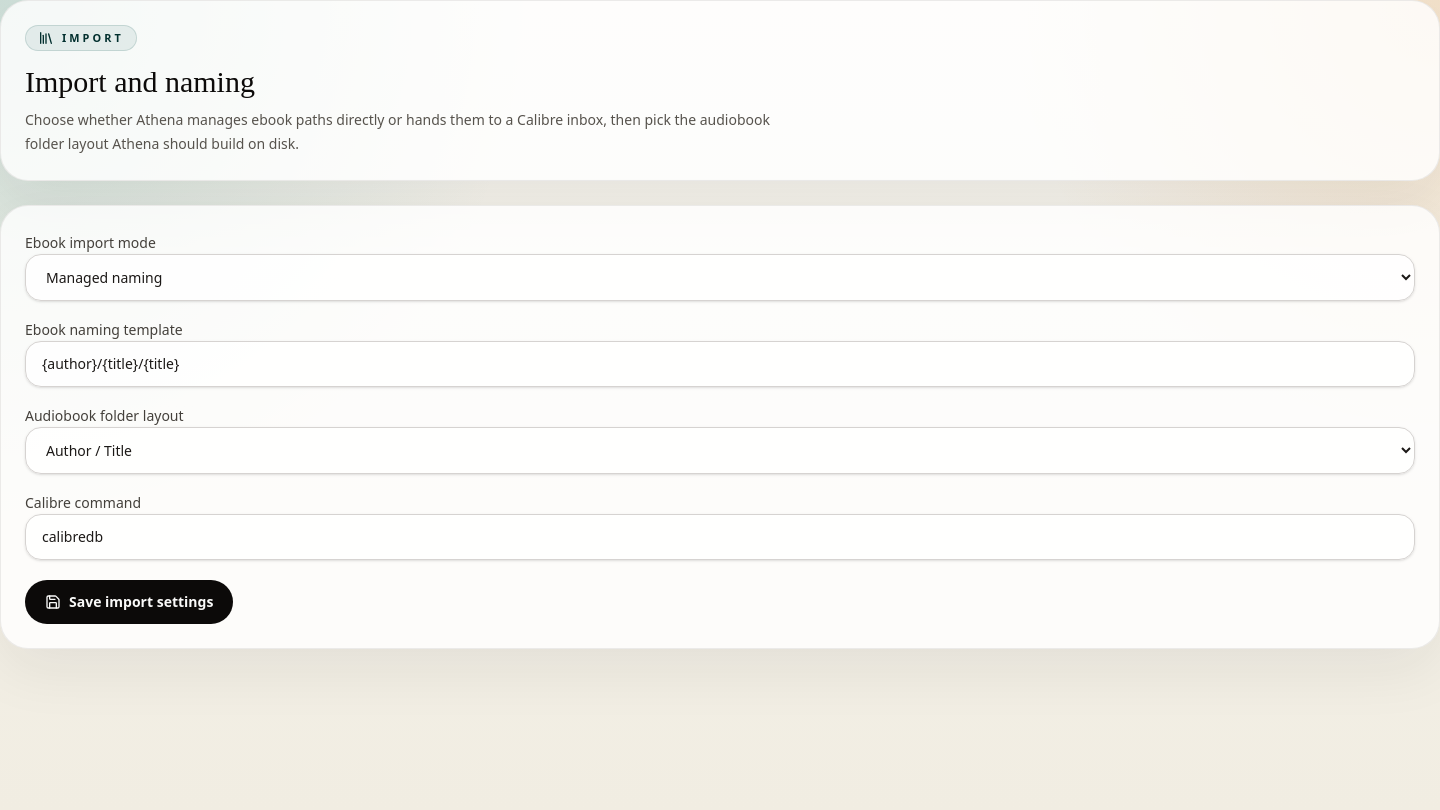
it: import settings page › loads media-specific import settings and toggles ebook controls by mode
Check: the text "Ebook naming template" is shown, box [25,320,183,339]
Select "Passthrough inbox" in the dropdown labelled "Ebook import mode" at (720,278), box [25,254,1415,301]
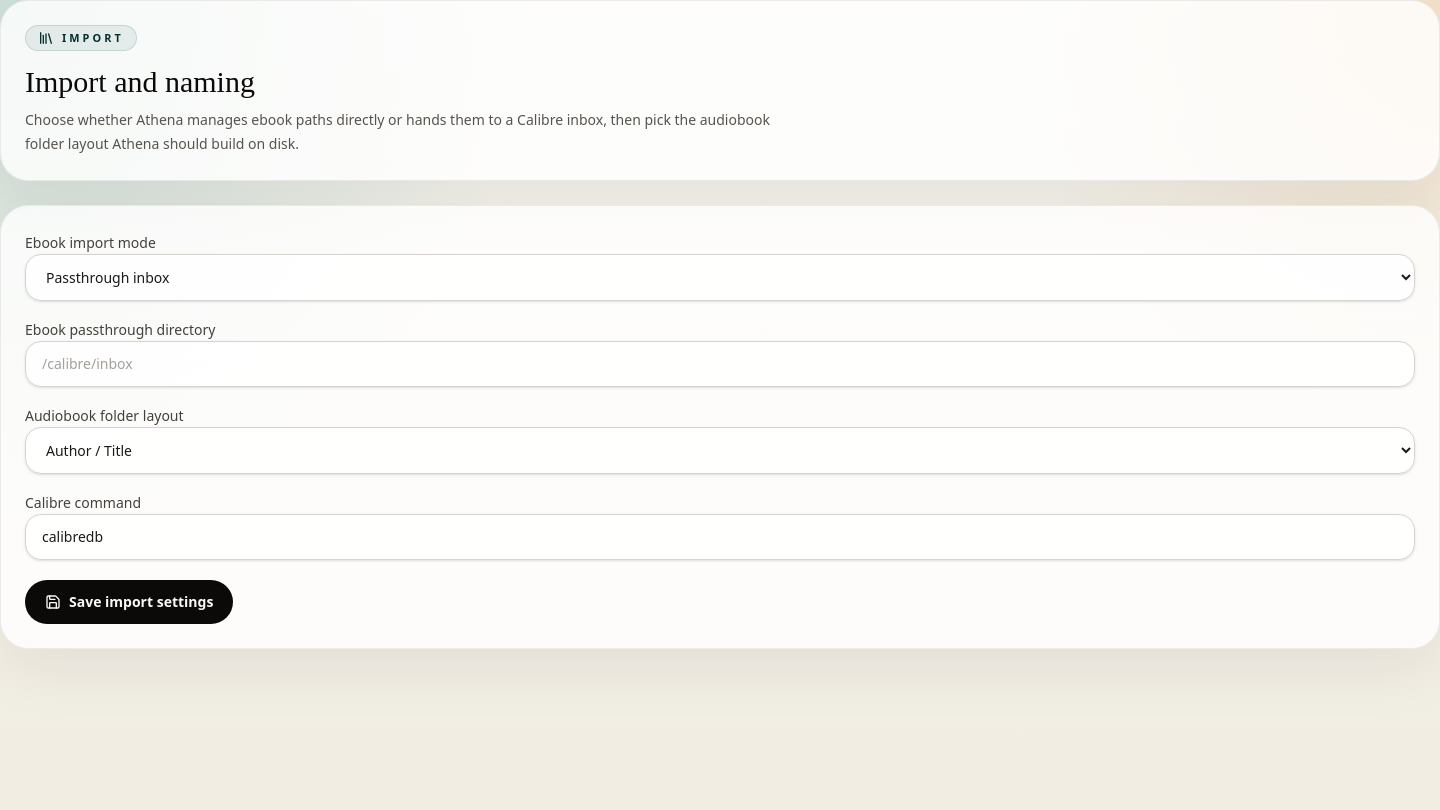
Check: the text "Audiobook folder layout" is shown, box [25,406,184,425]
Check: the text "Ebook passthrough directory" is shown, box [25,320,215,339]
